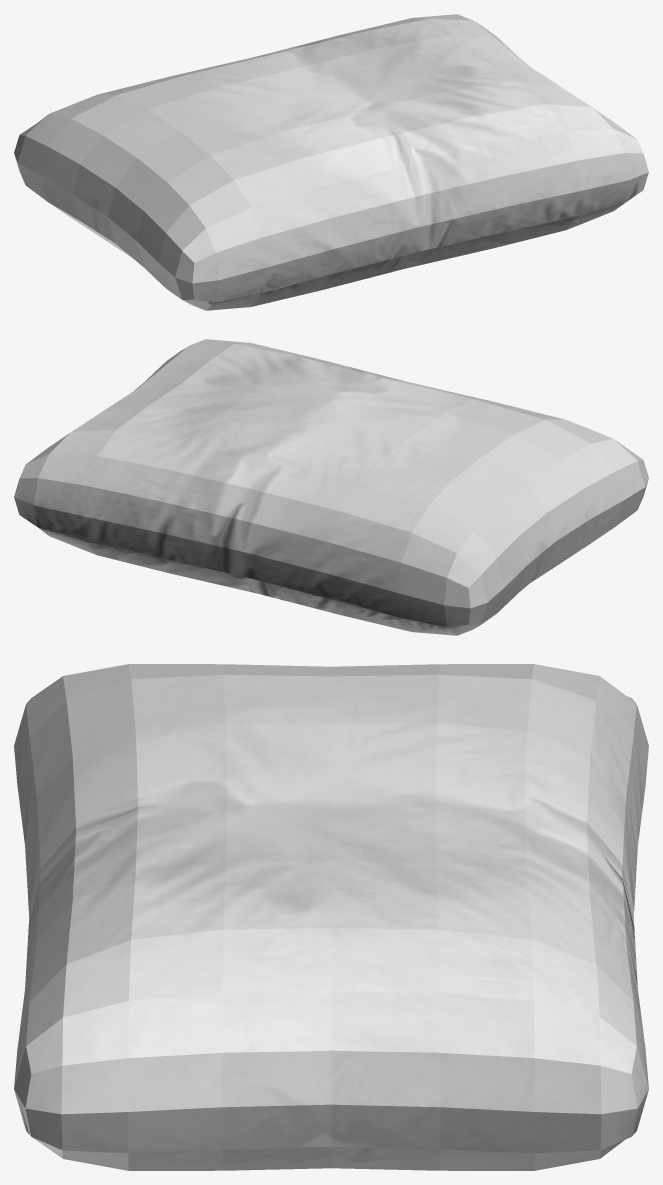
File: Pillow.fbx
3 renders of one model, top to bottom at view 1: azimuth 30°, elevation 25°; view 2: azimuth 150°, elevation 25°; view 3: azimuth 270°, elevation 25°, orthographic. The views are drawn at different scales.
Visible parts, largest first — view 1: Pillow; view 2: Pillow; view 3: Pillow.
Boxes of the visible parts, bbox=[...] form: Pillow: bbox=[14, 14, 648, 310]; Pillow: bbox=[14, 339, 648, 635]; Pillow: bbox=[14, 664, 648, 1170].
Size of the model in its own units: 65.91 by 19.74 by 44.94.
